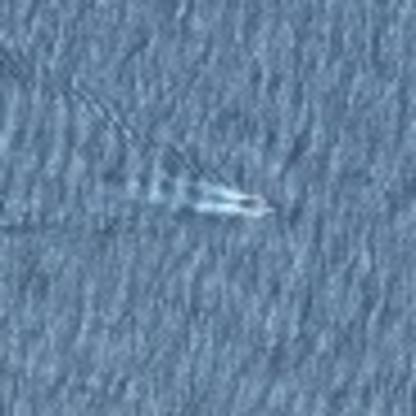ship: (228, 190, 275, 218)
